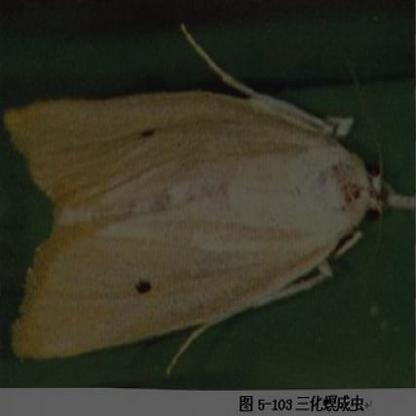stem-borer: (5, 20, 416, 377)
